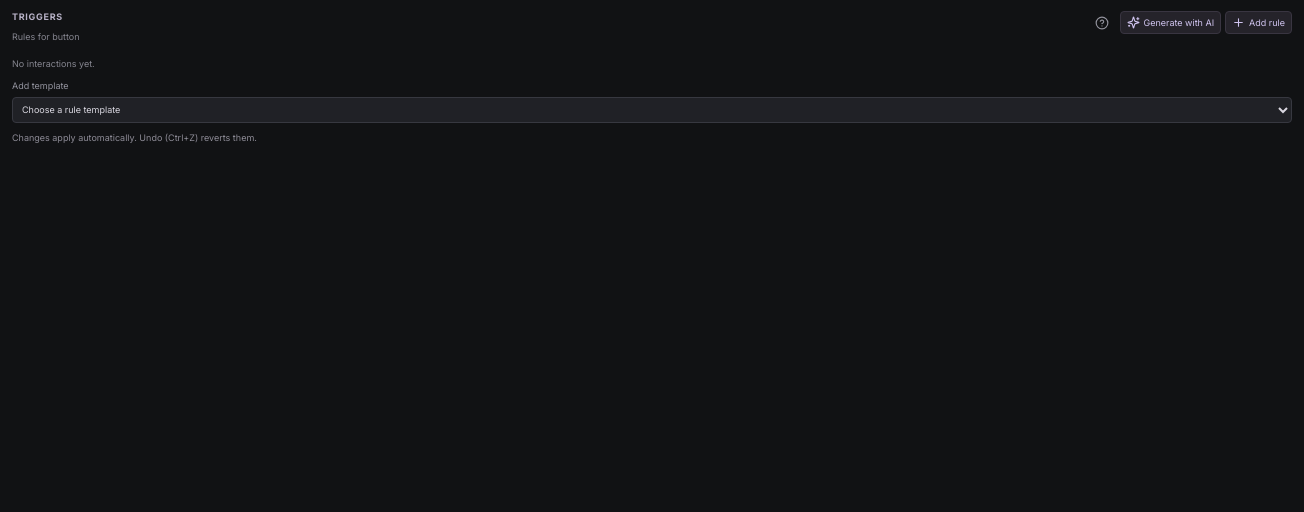
Test: InteractionBuilder new actions (B49) › offers Go back, Open link and Toggle, with the right field for each
Click the button "Add rule" at {"x": 1259, "y": 23}, box x1=1225 y1=11 x2=1292 y2=34
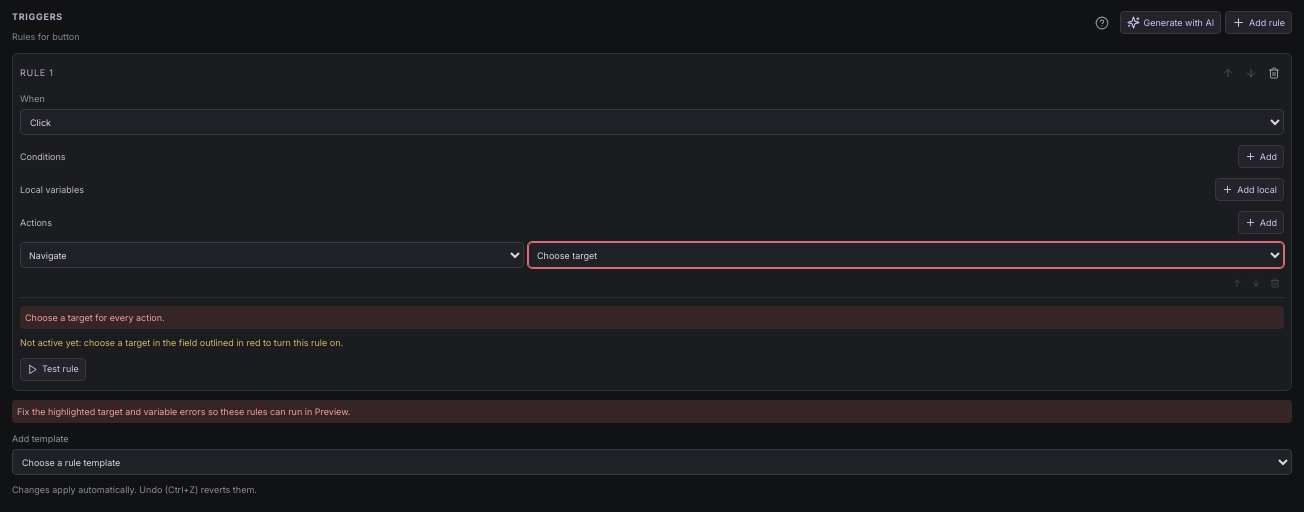
// Open link takes an address, outlined until one is typed.
Select "Open link" in the dropdown named "Action type" at {"x": 272, "y": 255}, box x1=20 y1=242 x2=524 y2=268
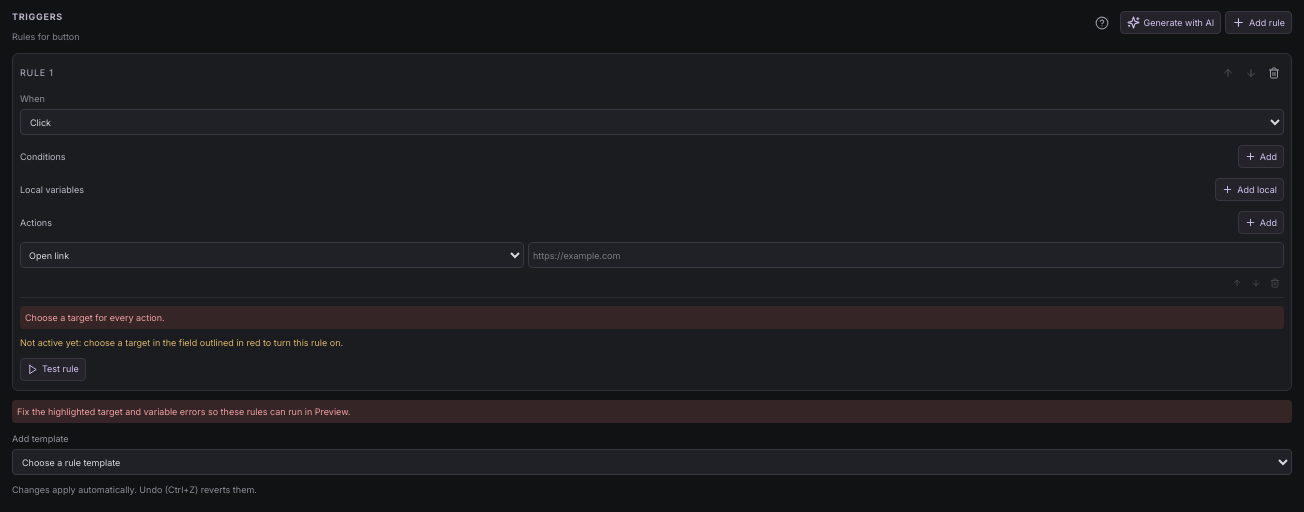
Type "example.com" into the field named "Link address" at {"x": 906, "y": 255}, box x1=528 y1=242 x2=1284 y2=268
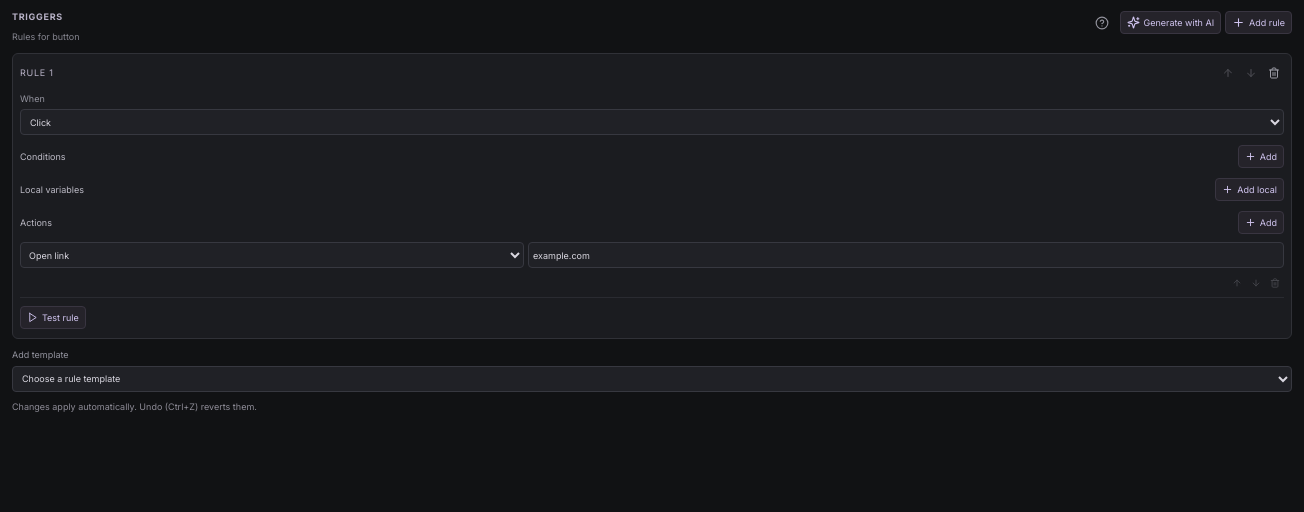
Expected: the field named "Link address" does not have attribute aria-invalid, x1=528 y1=242 x2=1284 y2=268
// Go back needs no target at all.
Select "Go back" in the dropdown named "Action type" at {"x": 272, "y": 255}, box x1=20 y1=242 x2=524 y2=268
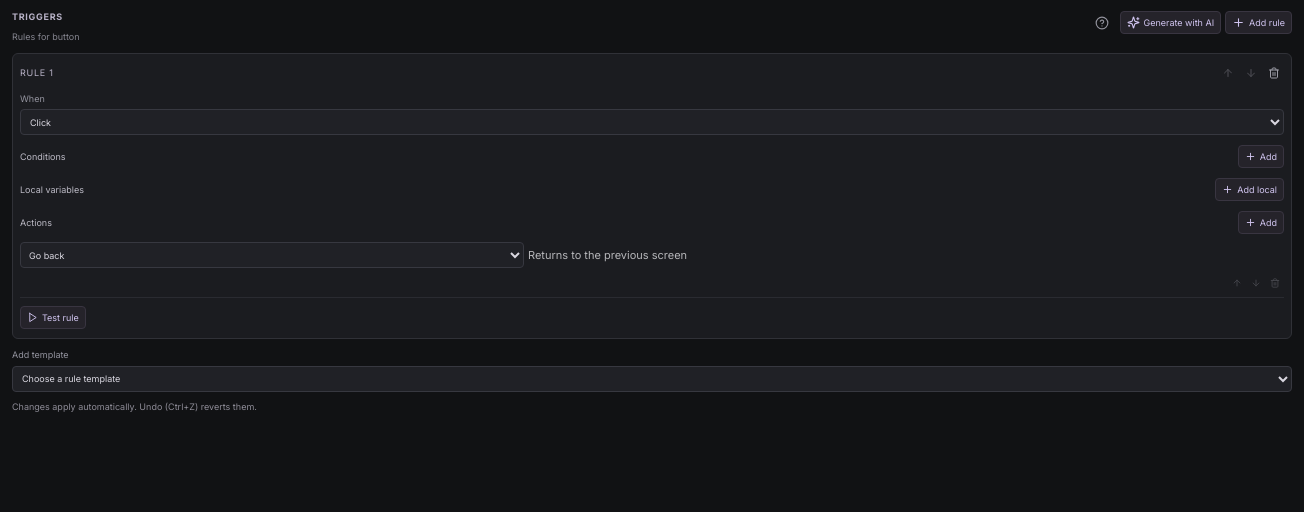
Expected: the text "Returns to the previous screen" is shown, x1=528 y1=248 x2=687 y2=262
// Toggle picks a widget like Show and Hide do.
Select "Toggle show/hide" in the dropdown named "Action type" at {"x": 272, "y": 255}, box x1=20 y1=242 x2=524 y2=268
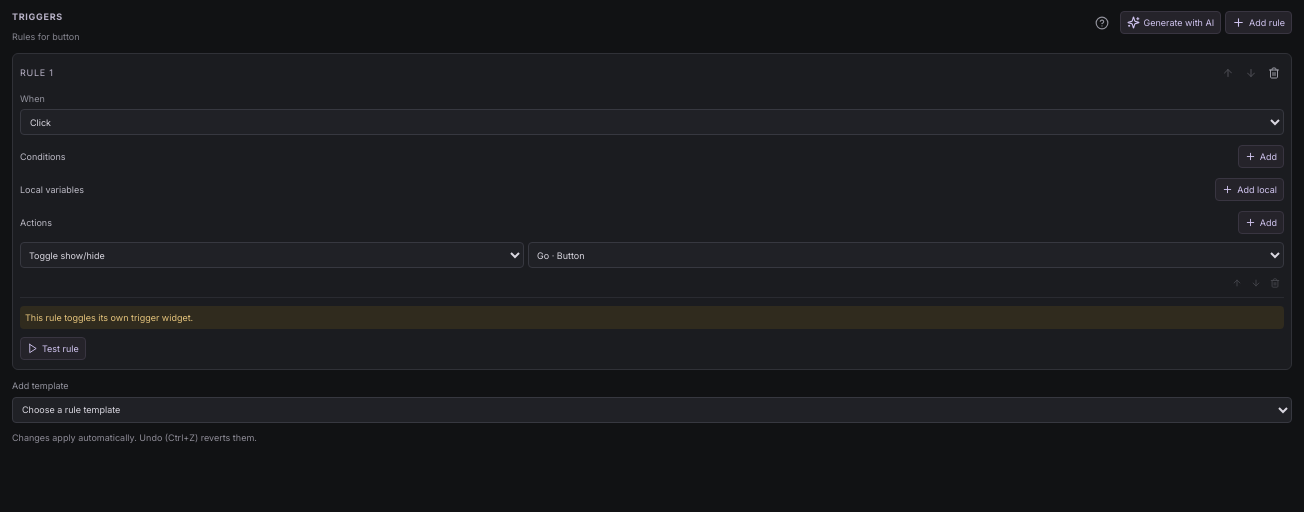
Expected: the dropdown named "Action target" is shown, x1=528 y1=242 x2=1284 y2=268
